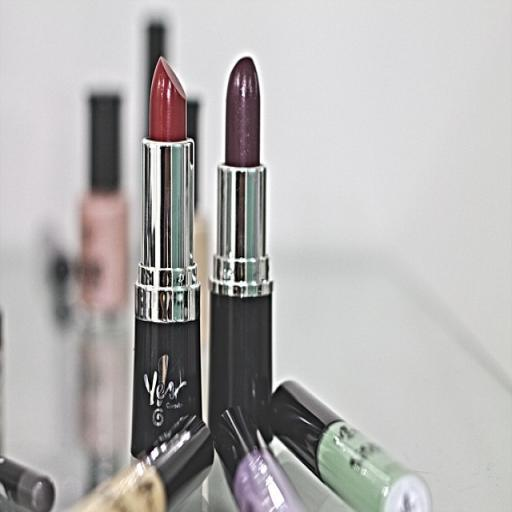lipstick: (132, 58, 201, 455), (209, 58, 271, 439), (270, 381, 431, 511), (72, 416, 213, 511), (215, 407, 303, 511), (0, 456, 55, 511)
